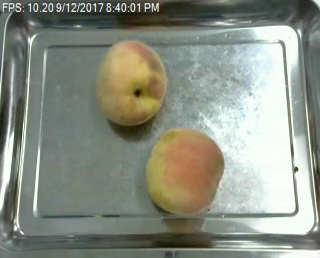Peach: (145, 127, 224, 216), (96, 39, 167, 127)
